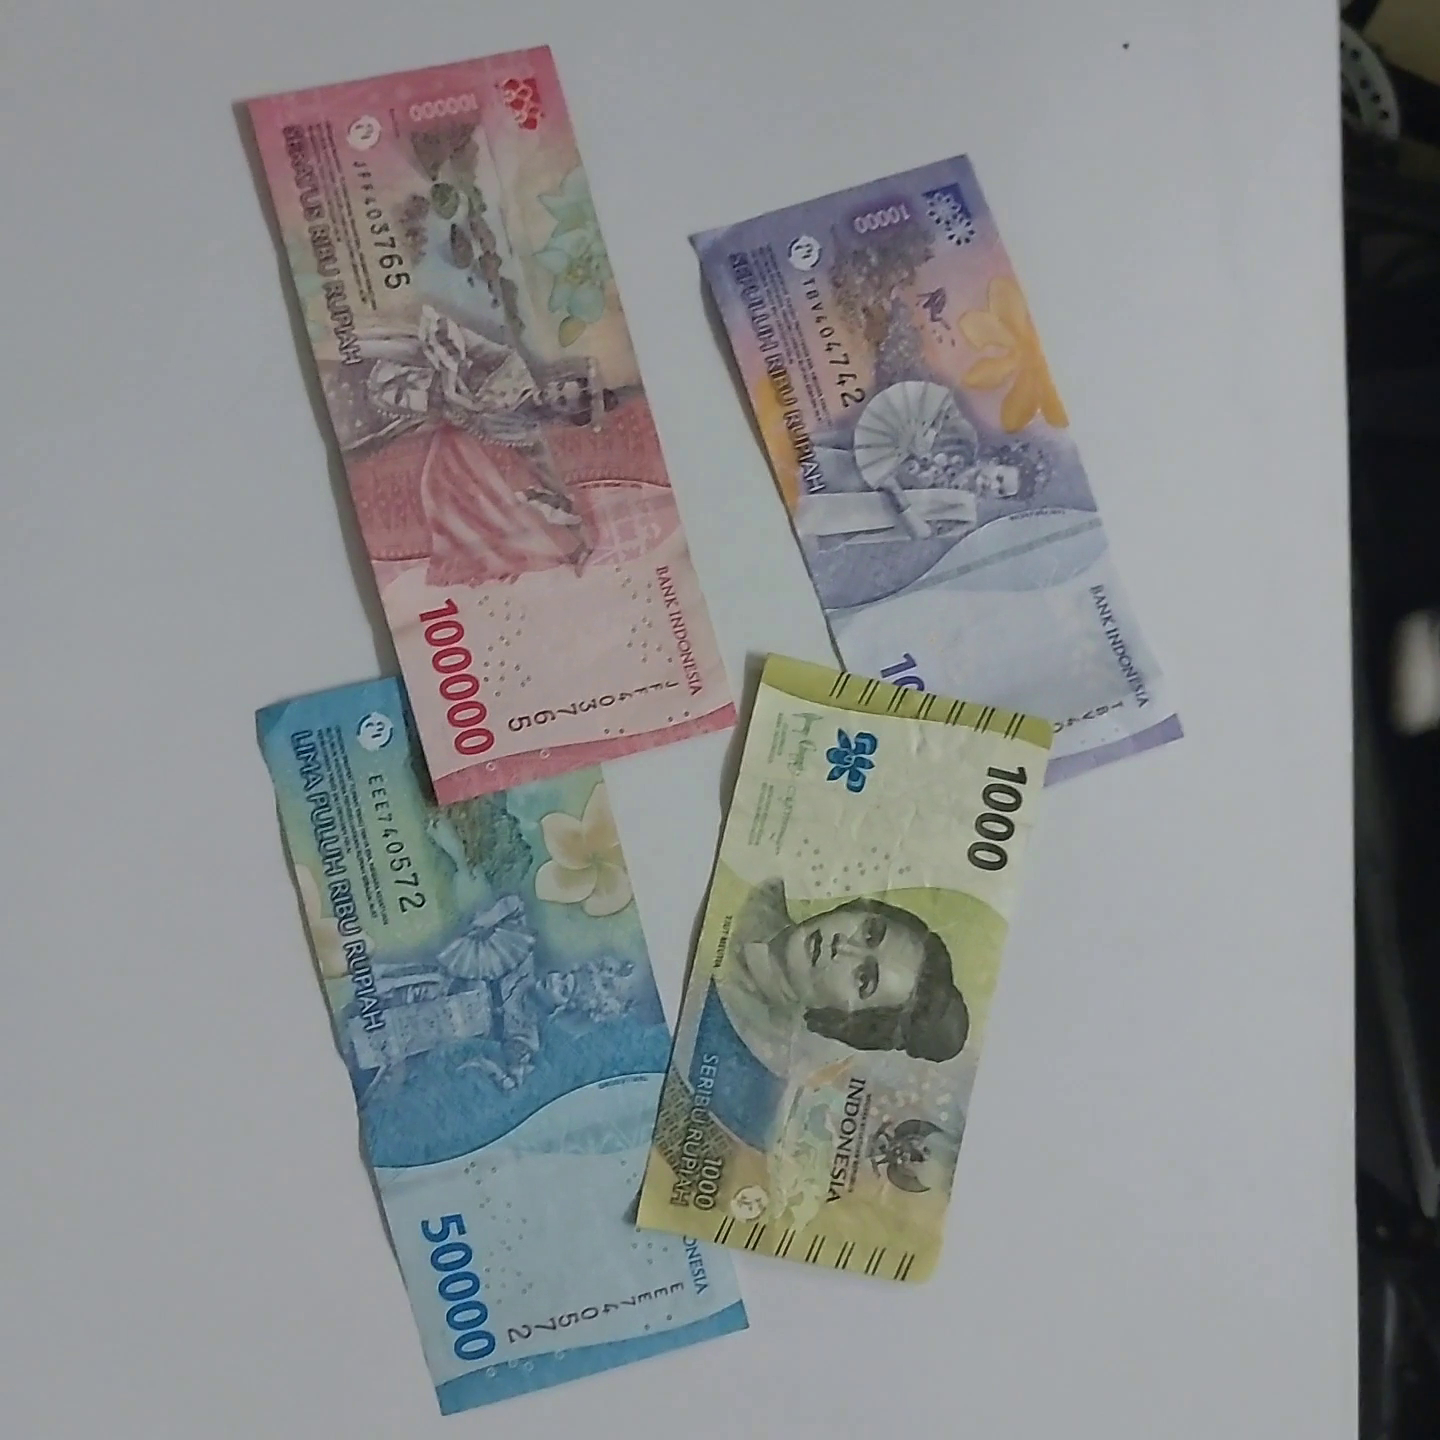100k: (257, 103, 595, 827)
10k: (684, 256, 994, 895)
1k: (622, 667, 1088, 1323)
50k: (150, 582, 761, 1440)
